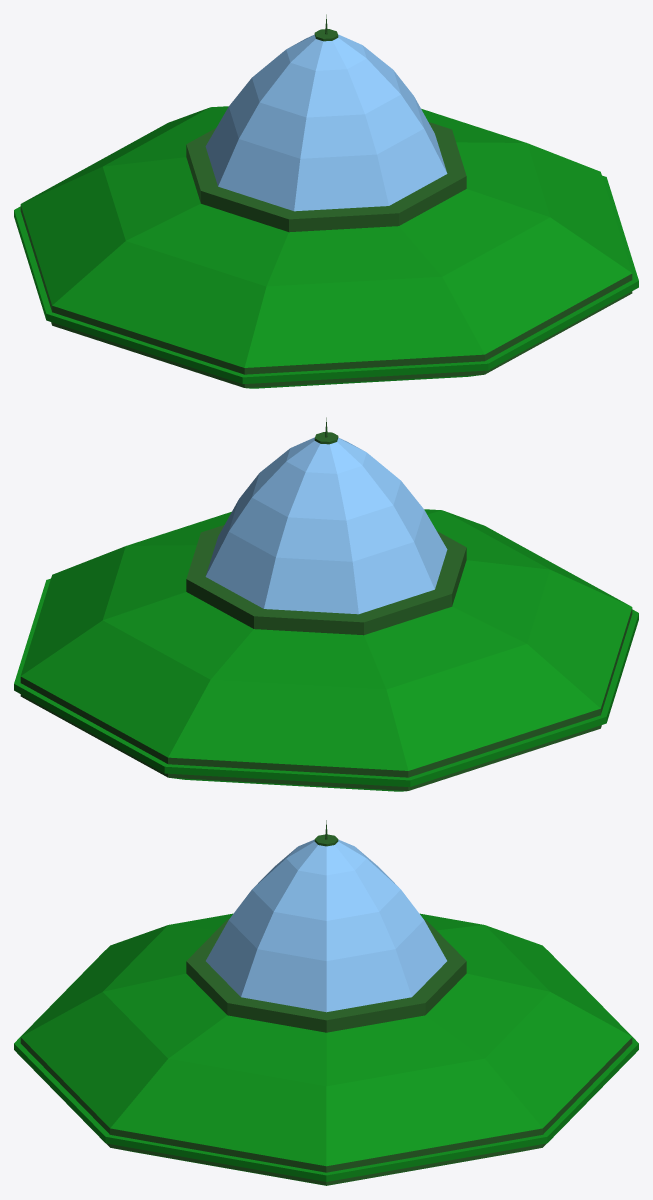
Rendered from UFO.fbx.
3 views of the same model, one above another, from view 1: azimuth 30°, elevation 25°; view 2: azimuth 150°, elevation 25°; view 3: azimuth 270°, elevation 25° (orthographic). The views are drawn at different scales.
Parts seen in each view (by area): view 1: UFO; view 2: UFO; view 3: UFO.
Part boxes in pixels (x1,y1,x2,y2): UFO: [14, 14, 638, 388]; UFO: [14, 417, 638, 791]; UFO: [14, 820, 638, 1185].
Bounding box in the file's own units: 204 × 94.19 × 204.
